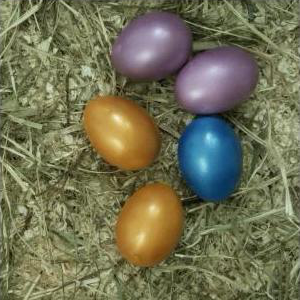egg: (83, 95, 160, 170), (111, 12, 193, 82), (175, 47, 260, 114), (179, 115, 242, 202), (117, 184, 183, 267)
